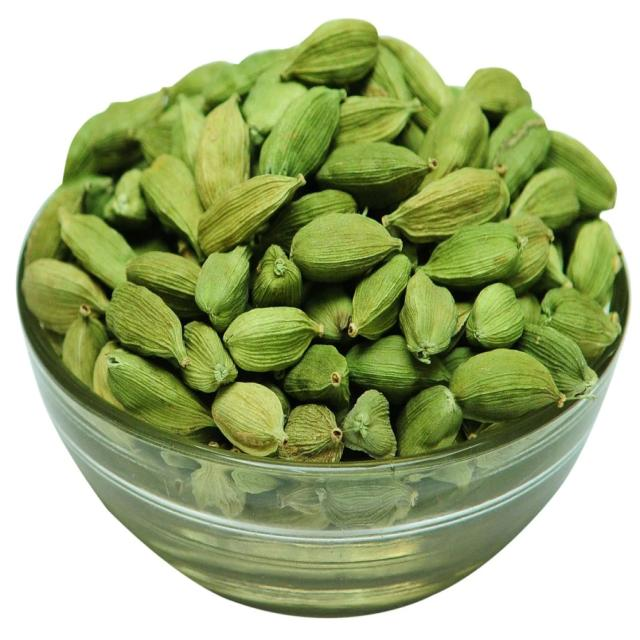Cardamom: (23, 25, 624, 437)
